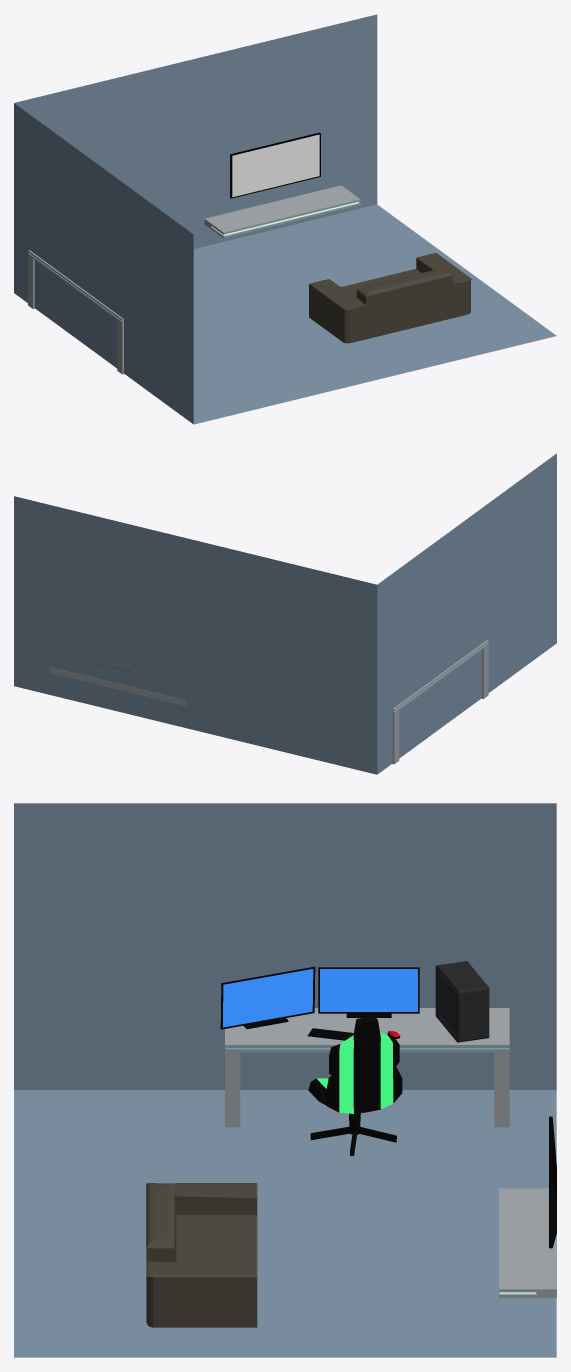
The model's file is chng.glb.
3 views of the same model, one above another, from view 1: azimuth 30°, elevation 25°; view 2: azimuth 150°, elevation 25°; view 3: azimuth 270°, elevation 25° (orthographic). The views are drawn at different scales.
Visible parts, largest first — view 1: Cube, Cube.004, Plane.005, Cube.003, Plane; view 2: Cube, Plane, Cube.003; view 3: Cube, Cube.004, Plane, Plane.004, Cube.003, Plane.001, Plane.002, Cube.001, Plane.005.
Part boxes in pixels (x1,y1,x2,y2): Cube: (14, 14, 556, 424); Cube.004: (309, 253, 472, 343); Plane.005: (230, 132, 320, 198); Cube.003: (204, 185, 360, 238); Plane: (28, 250, 123, 374); Cube: (14, 453, 556, 774); Plane: (392, 640, 488, 764); Cube.003: (49, 667, 186, 706); Cube: (14, 803, 556, 1357); Cube.004: (146, 1183, 257, 1327); Plane: (225, 1008, 509, 1127); Plane.004: (308, 1016, 402, 1155); Cube.003: (499, 1188, 556, 1297); Plane.001: (318, 967, 419, 1017); Plane.002: (220, 966, 315, 1029); Cube.001: (435, 961, 489, 1042); Plane.005: (549, 1116, 556, 1248).
Bounding box in the file's own units: 14.06 × 7.03 × 12.01.
